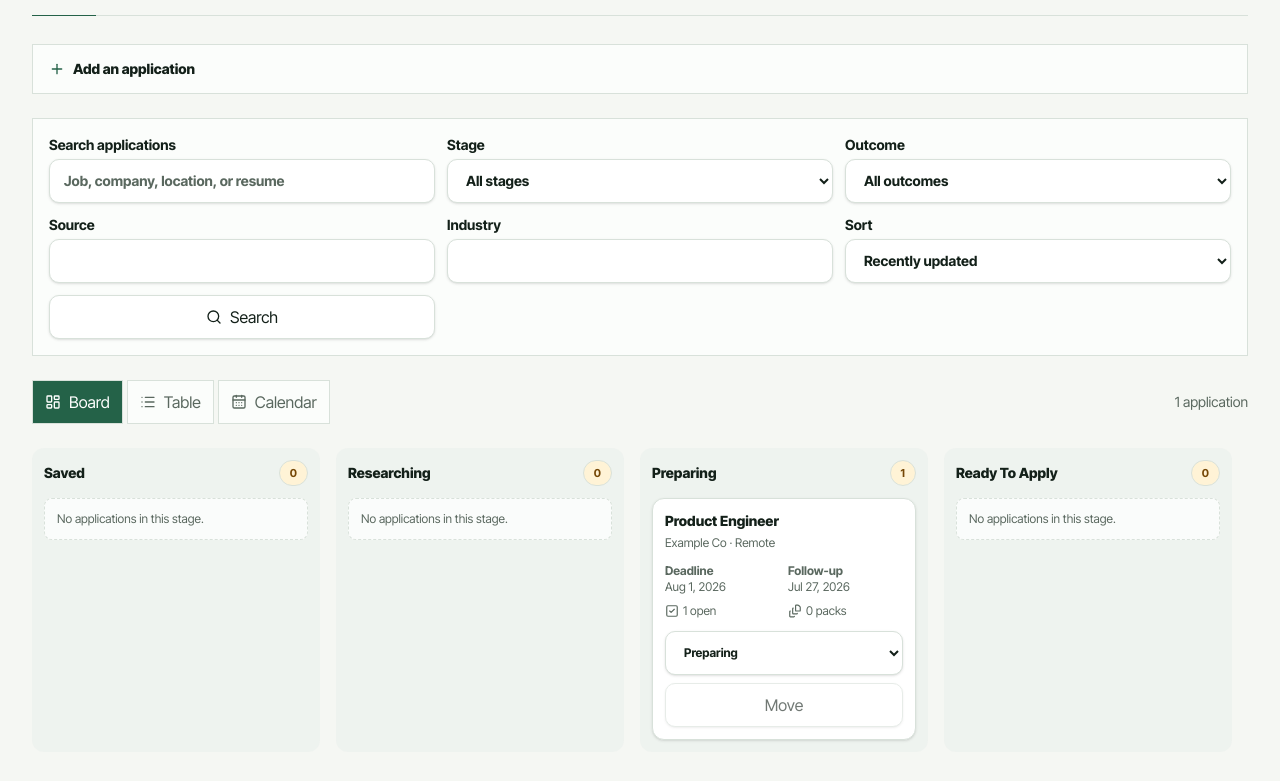
Scenario: Application Workspace list › renders the board and provides a non-drag stage control
The image size is (1280, 781).
(page scrolled)
Expected: the heading "Product Engineer" is shown, [665,512,779,528]
Select "Ready To Apply" in the dropdown named "Move Product Engineer to stage" at [784, 652], box [665,630,903,674]
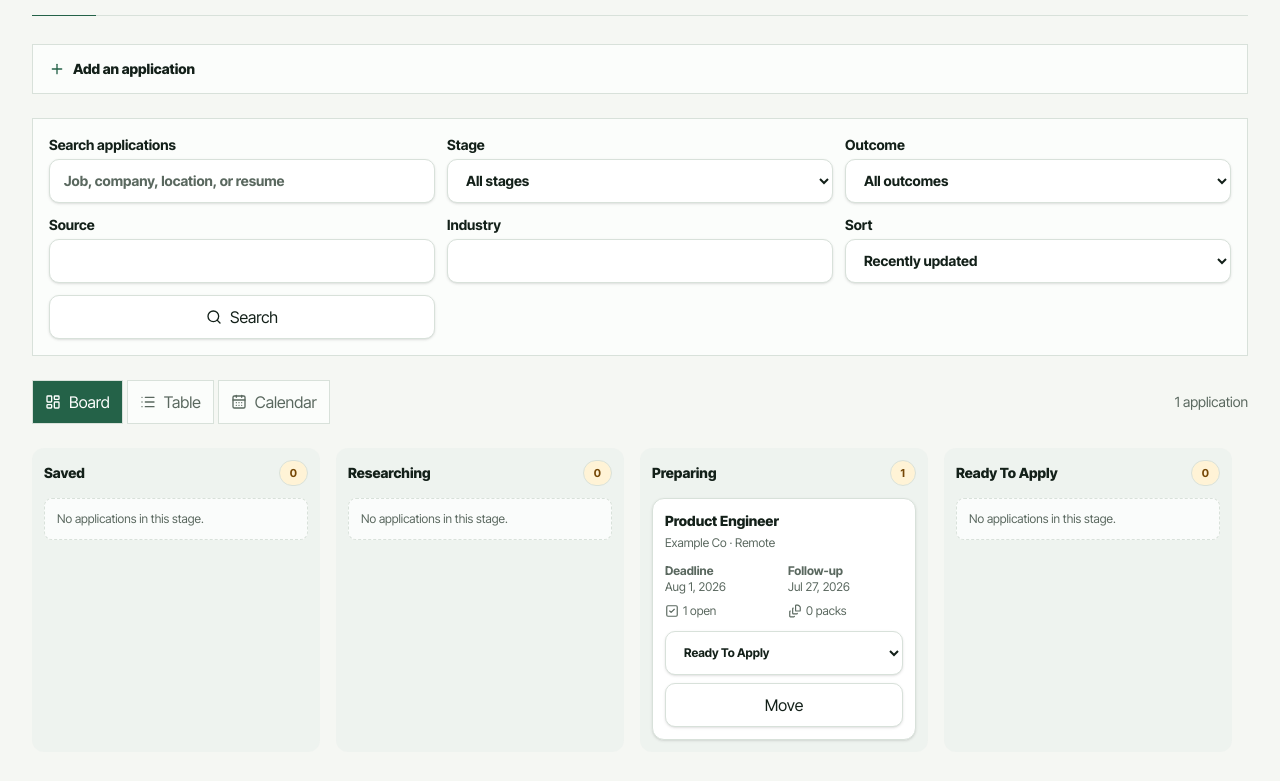
Click the button "Move" at [784, 704], box [665,682,903,726]
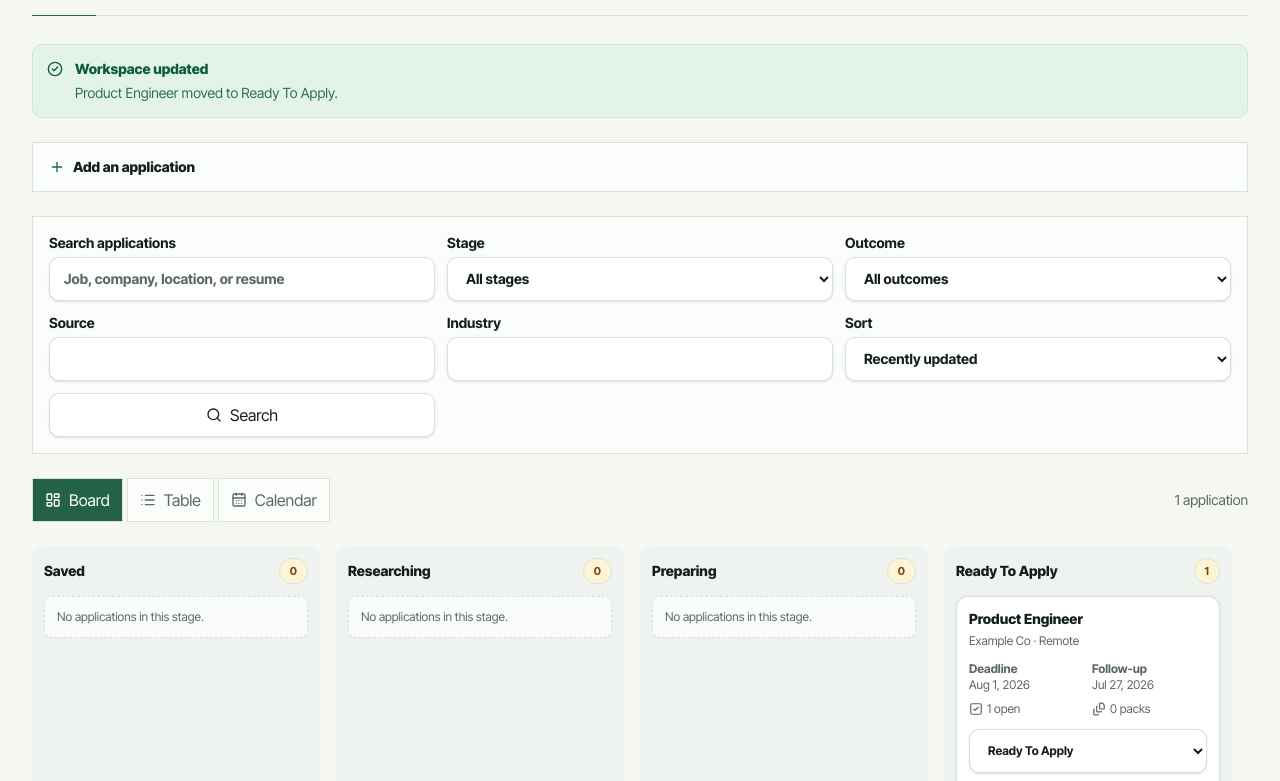
Result: the message shows "moved to Ready To Apply" at [75,84,338,100]
Result: the text "Product Engineer moved to Ready To Apply." is shown once at [75,82,338,102]
